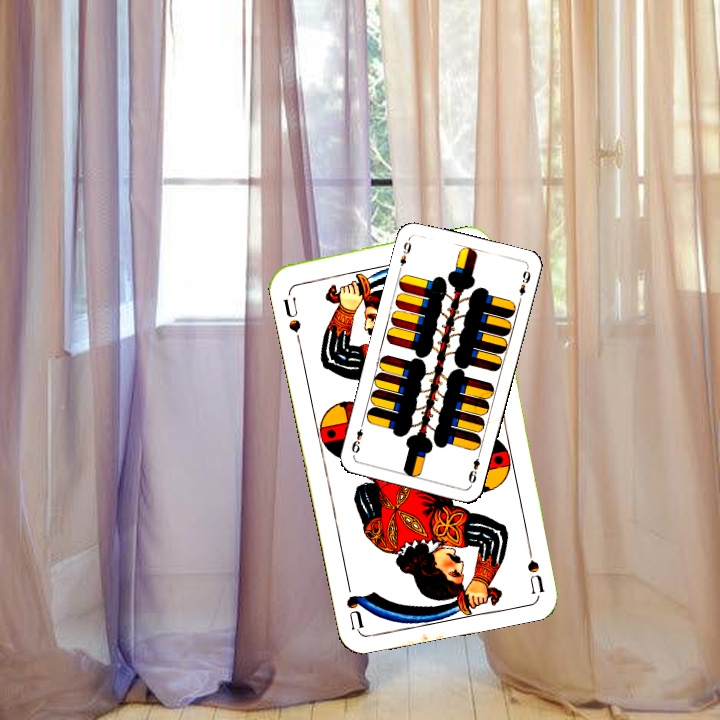E9: (464, 447, 483, 487), (395, 234, 414, 274)
SU: (522, 535, 547, 594), (279, 293, 304, 346)
